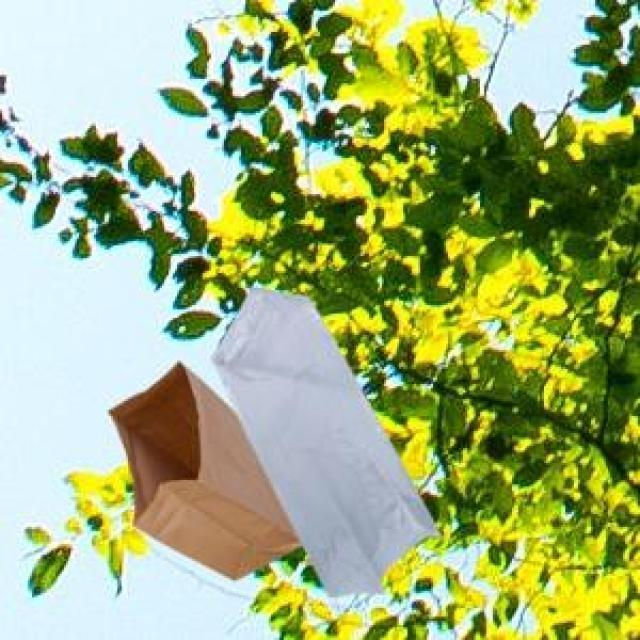paper: (105, 358, 299, 576)
